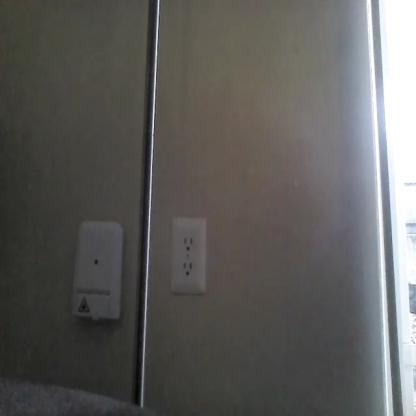OUTLET: (169, 217, 206, 294)
